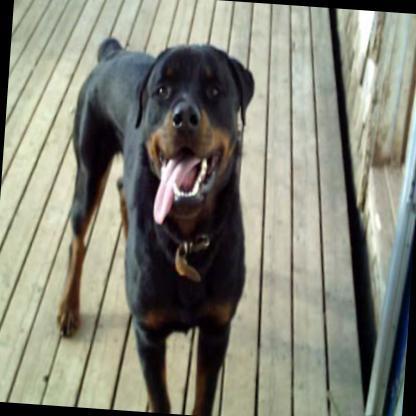Rottweiler: (51, 35, 260, 416)
